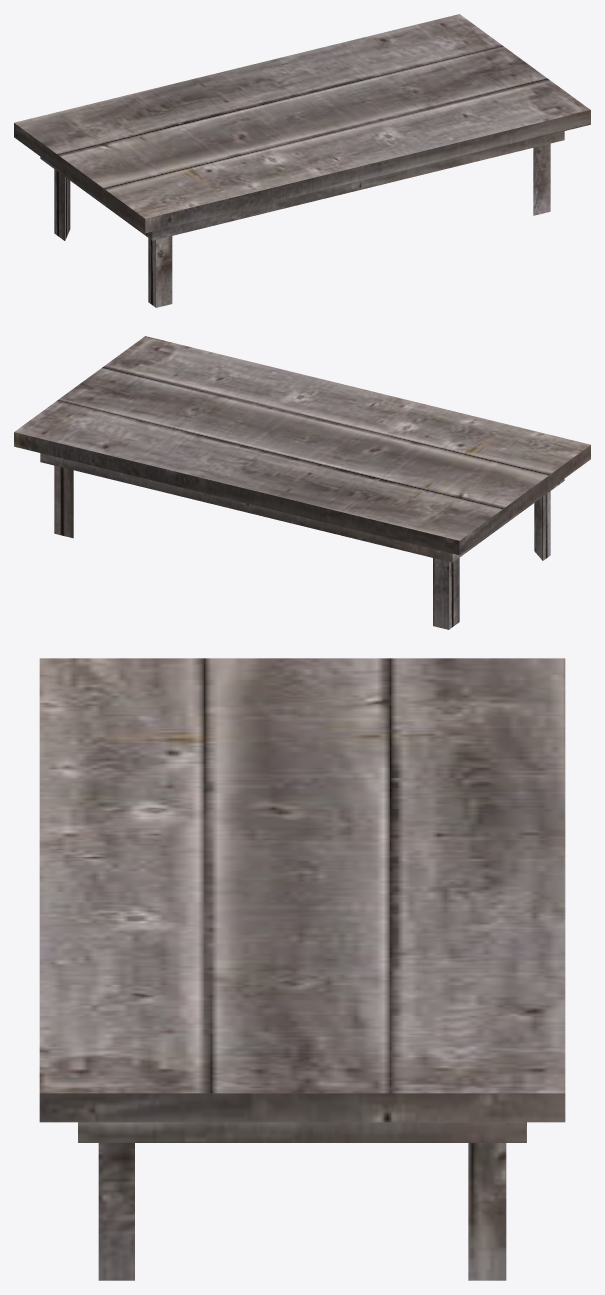
File: wood table.glb
The picture shows the model from 3 angles, top to bottom: view 1: azimuth 30°, elevation 25°; view 2: azimuth 150°, elevation 25°; view 3: azimuth 270°, elevation 25°; orthographic projection. The views are drawn at different scales.
Visible parts, largest first — view 1: Cube; view 2: Cube; view 3: Cube.
Boxes of the visible parts, x1,y1,x2,y2 form: Cube: (14, 14, 590, 307); Cube: (14, 336, 590, 629); Cube: (39, 658, 565, 1280).
Size of what is drawn, in the model's own units: 5.48 by 1.25 by 2.8.
1 material, 1 textured.
